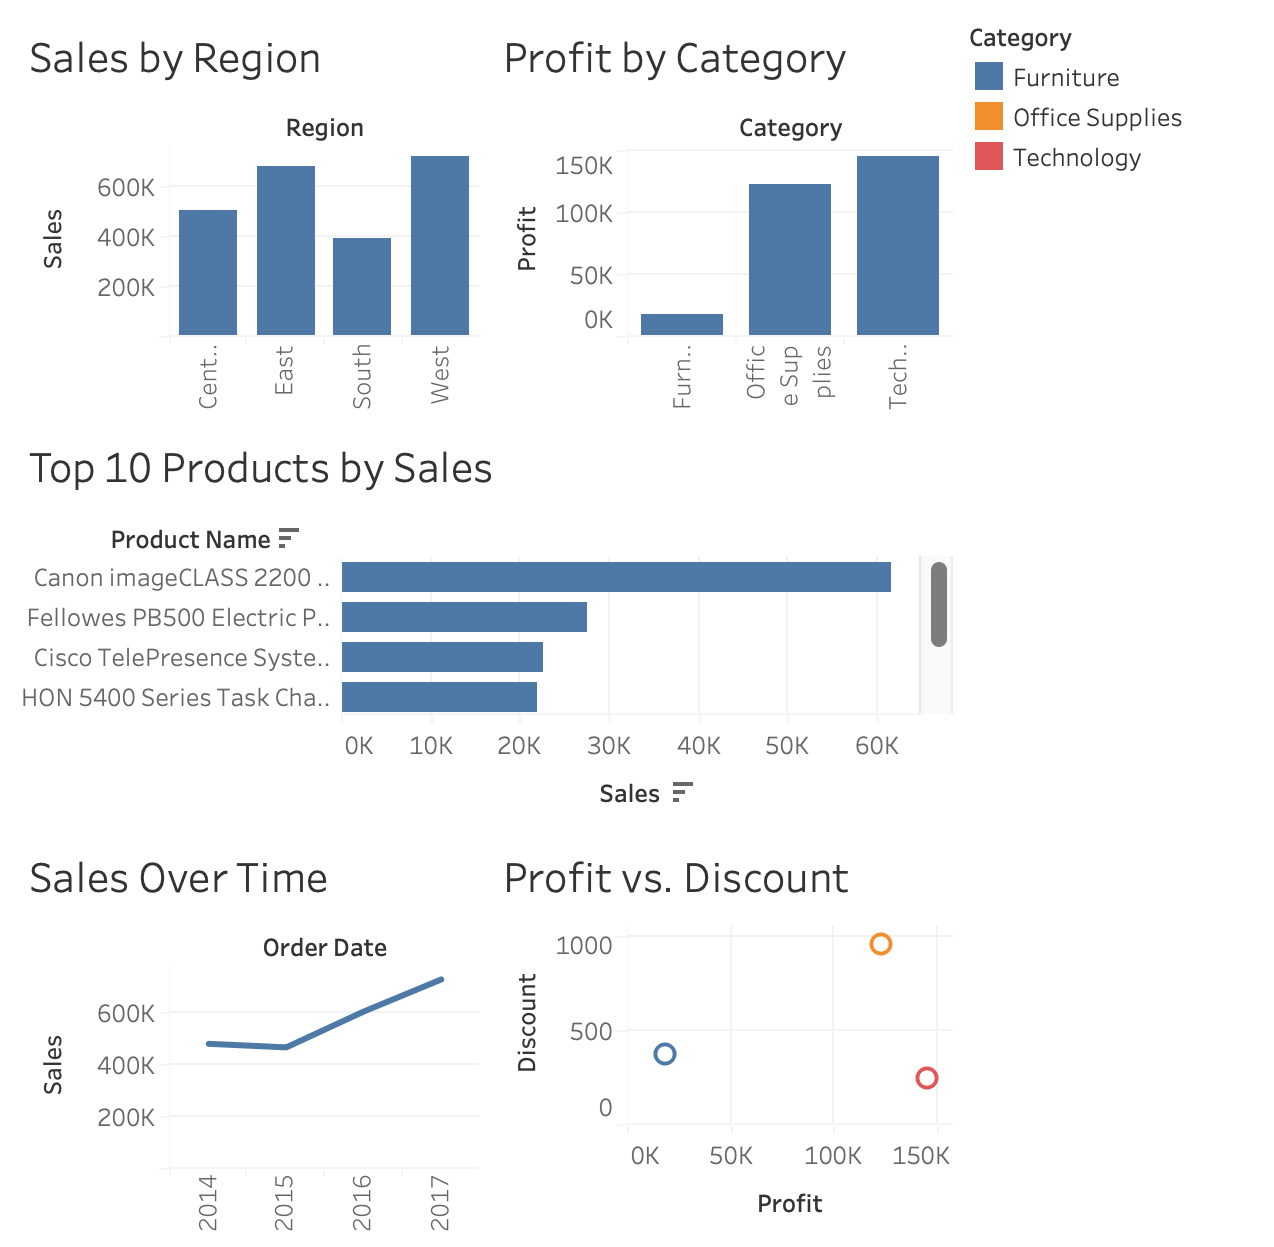

This screenshot's page, from the dashboard's own definition file:
{"tool":"tableau","page":{"name":"Sales Analysis Dashboard","canvas":[650,860],"ordinal":0},"visuals":[{"type":"worksheet","title":"Sales by Region","mark":"Automatic","rows":["Sales"],"cols":["Region"],"box":[8,10.9,237,279.4]},{"type":"worksheet","title":"Profit by Category","mark":"Automatic","rows":["Profit"],"cols":["Category"],"box":[245,10.9,237,279.4]},{"type":"legend","title":"Profit vs. Discount ","param":"[federated.0gtaw471d7ycz519c8tox1gp3hyh].[none:Category:nk]","box":[482,10.9,160,117.2]},{"type":"worksheet","title":"Top 10 Products by Sales","mark":"Automatic","rows":["Product Name"],"cols":["Sales"],"box":[8,290.3,474,279.4]},{"type":"worksheet","title":"Sales Over Time","mark":"Automatic","rows":["Sales"],"cols":["Order Date"],"box":[8,569.7,237,279.4]},{"type":"worksheet","title":"Profit vs. Discount ","mark":"Automatic","rows":["Discount"],"cols":["Profit"],"box":[245,569.7,237,279.4]}]}

Visuals, with their boxes in screenshot pixels (x1, y1, x2, y2):
"Sales by Region" worksheet: bbox(257, 69, 596, 468)
"Profit by Category" worksheet: bbox(596, 69, 935, 468)
"Profit vs. Discount " legend: bbox(935, 69, 1164, 236)
"Top 10 Products by Sales" worksheet: bbox(257, 468, 935, 868)
"Sales Over Time" worksheet: bbox(257, 868, 596, 1246)
"Profit vs. Discount " worksheet: bbox(596, 868, 935, 1246)
